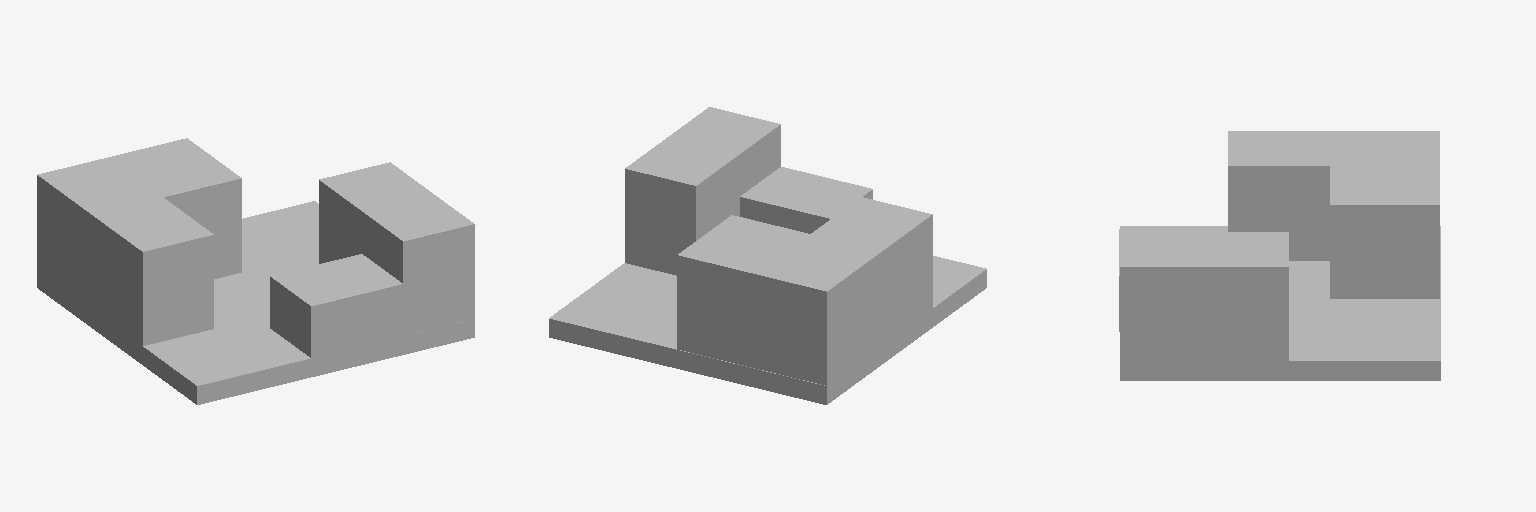
File: sifiBlockout.obj
3 renders of one model, left to right at view 1: azimuth 30°, elevation 25°; view 2: azimuth 150°, elevation 25°; view 3: azimuth 270°, elevation 25°, orthographic.
Parts seen in each view (by area): view 1: Cube_Cube.005, Cube.001_Cube.006, Cube.003_Cube.008, Cube.002_Cube.007, Cube.004_Cube.009; view 2: Cube.001_Cube.006, Cube.003_Cube.008, Cube_Cube.005, Cube.002_Cube.007, Cube.004_Cube.009; view 3: Cube.003_Cube.008, Cube.001_Cube.006, Cube_Cube.005, Cube.002_Cube.007.
Part boxes in pixels (x1,y1,x2,y2): Cube_Cube.005: (37, 201, 474, 404); Cube.001_Cube.006: (37, 138, 241, 313); Cube.003_Cube.008: (319, 162, 474, 334); Cube.002_Cube.007: (89, 195, 213, 350); Cube.004_Cube.009: (270, 254, 405, 362); Cube.001_Cube.006: (677, 215, 881, 390); Cube.003_Cube.008: (625, 107, 780, 275); Cube_Cube.005: (549, 256, 986, 404); Cube.002_Cube.007: (808, 197, 932, 350); Cube.004_Cube.009: (740, 167, 872, 233); Cube.003_Cube.008: (1120, 232, 1288, 360); Cube.001_Cube.006: (1330, 131, 1439, 298); Cube_Cube.005: (1120, 226, 1440, 380); Cube.002_Cube.007: (1228, 131, 1337, 260).
Bounding box in the file's own units: 30.46 × 11.87 × 30.44.